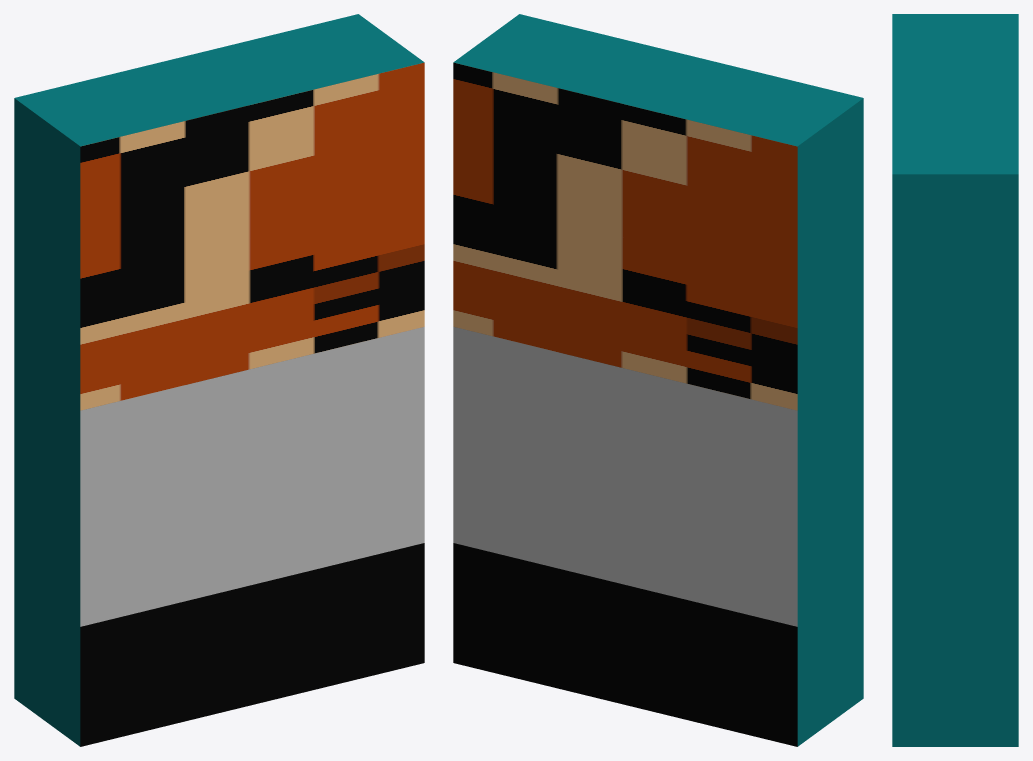
File: DungeonWallDoor.dae
The picture shows the model from 3 angles, left to right: view 1: azimuth 30°, elevation 25°; view 2: azimuth 150°, elevation 25°; view 3: azimuth 270°, elevation 25°; orthographic projection. The views are drawn at different scales.
Parts seen in each view (by area): view 1: instance_0 (×4); view 2: instance_0 (×4); view 3: instance_0.
Part boxes in pixels (bbox=[...]): instance_0 (×4): bbox=[14, 14, 424, 746]; instance_0 (×4): bbox=[453, 14, 863, 746]; instance_0: bbox=[892, 14, 1018, 746].
Size of the model in its own units: 59.06 by 19.69 by 98.43.
